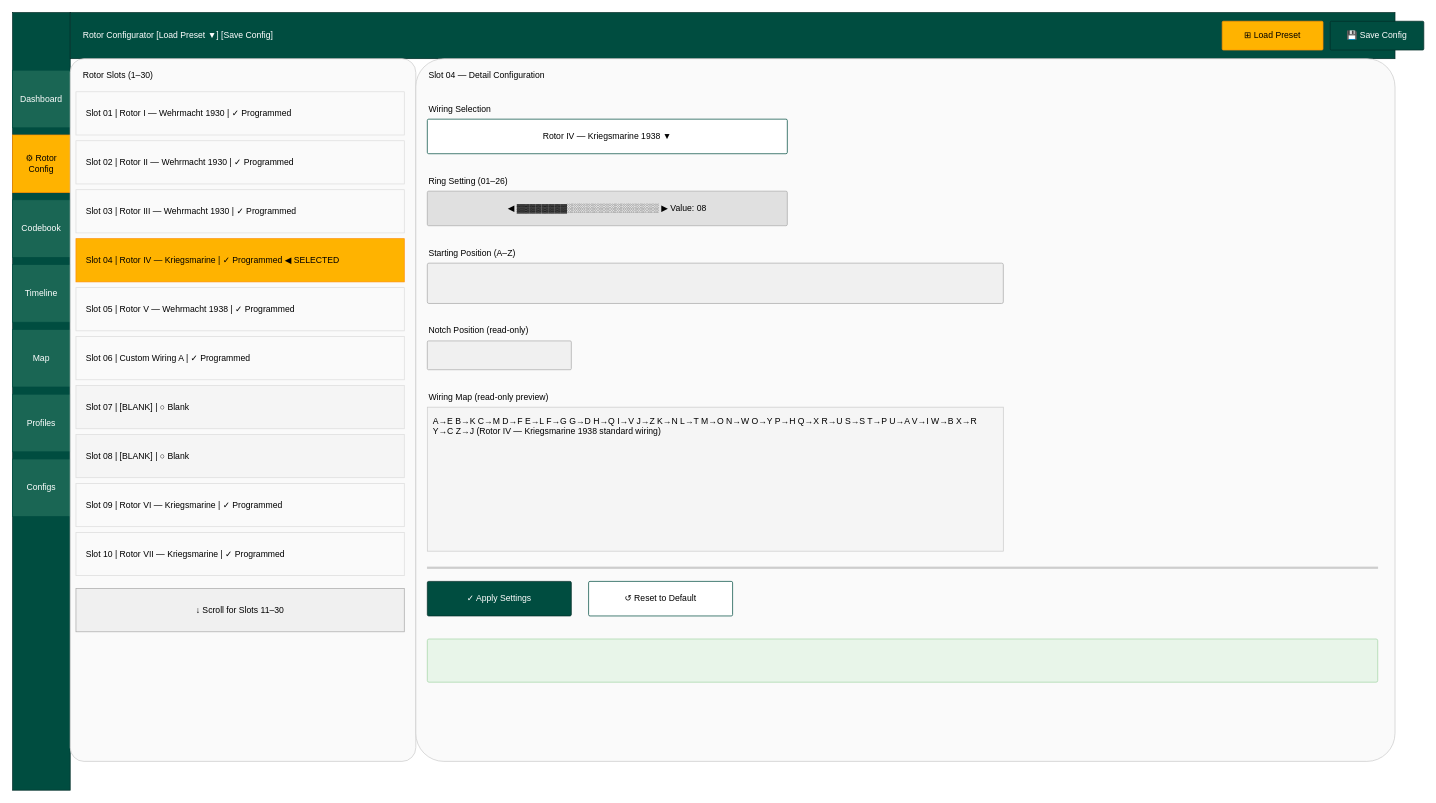
This 1436x803 diagram has some shape labels left out. The shapes that lost their labels are listed below. From the top down, each one's centre as x and y in pixels, then its label:
point 715,282: A B C D [E] F G H I J K L M N O P Q R S T U V W X Y Z
point 499,355: Notch: J (position 10)
point 902,660: Quick Reference — Rotor Specifications ▼ (tap to expand)
